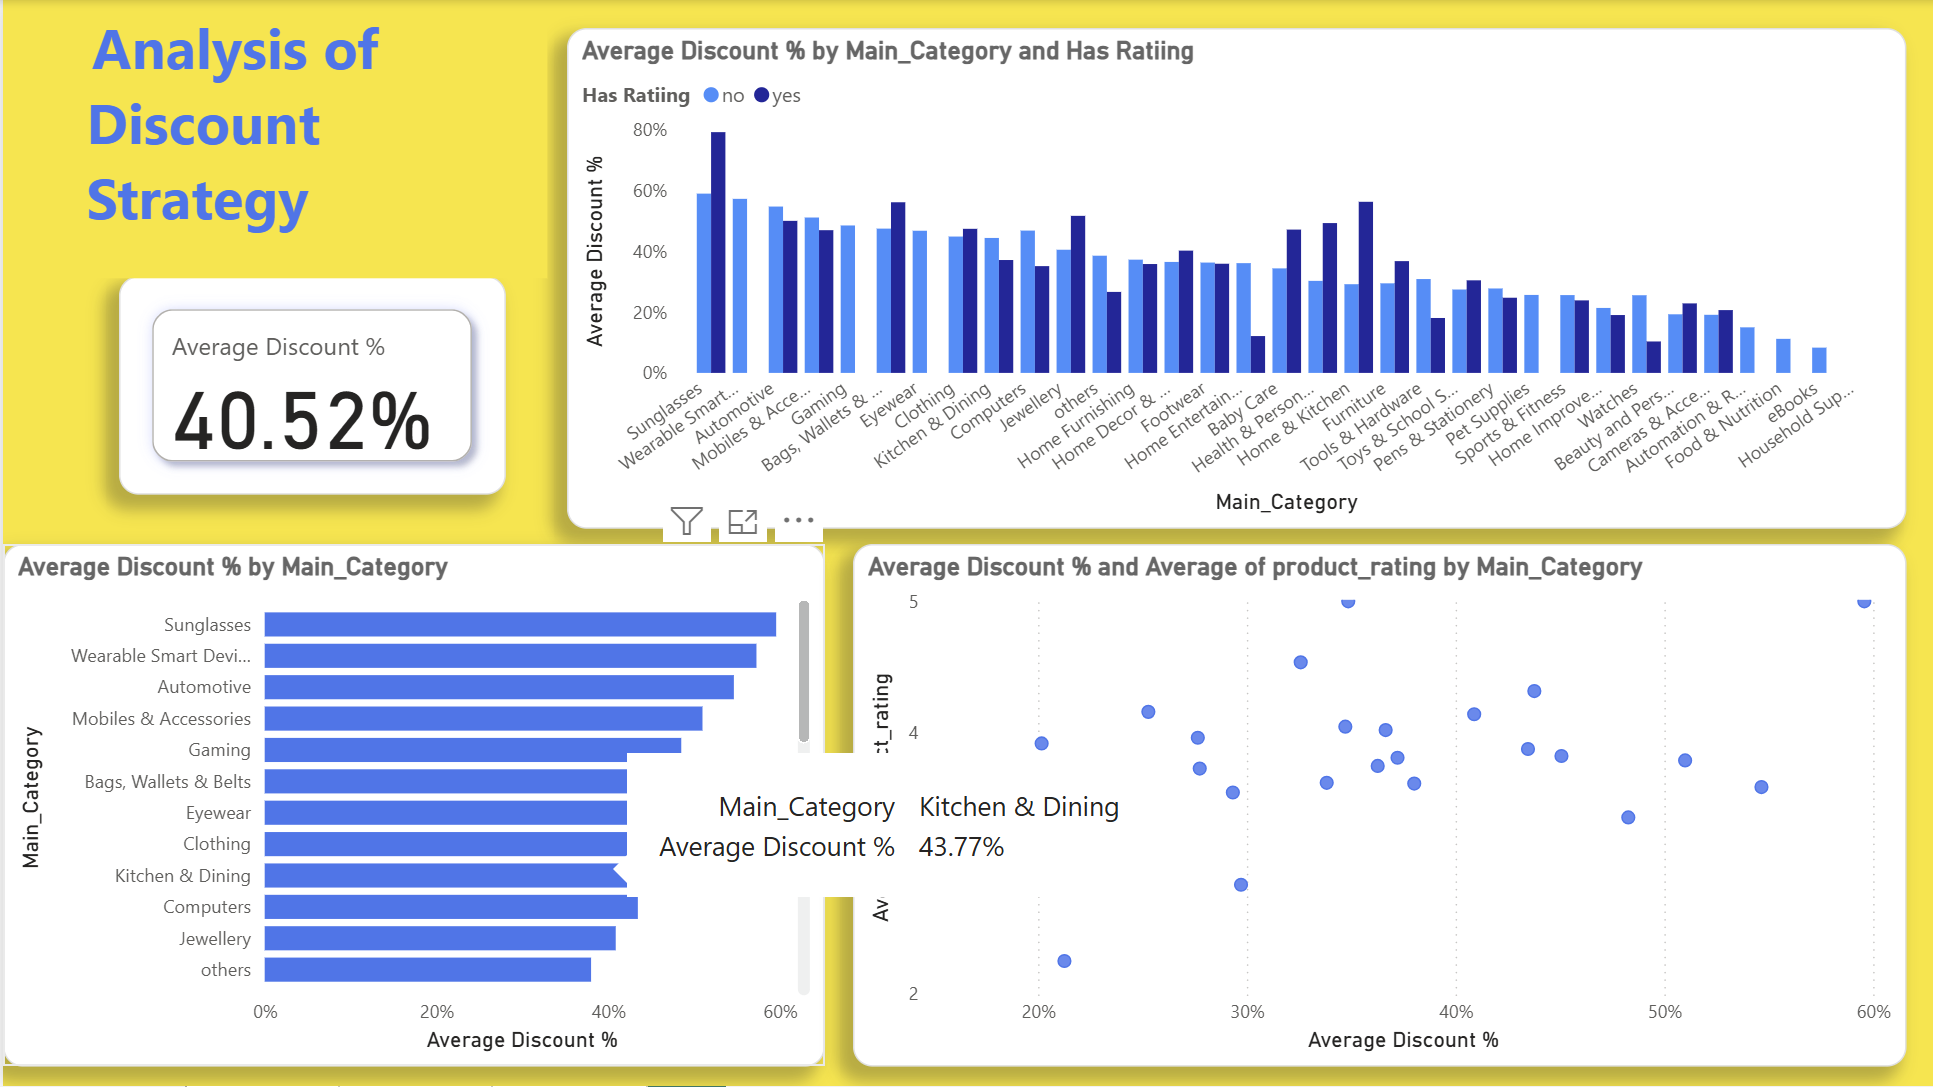

The page's visual inventory and layout, read from the dashboard file:
{"tool":"powerbi","page":{"name":"Page 3","canvas":[1280,720],"ordinal":2},"visuals":[{"type":"cardVisual","fields":{"Data":["flipkart_com-ecommerce_sample.Average Discount %"]},"box":[76.7,183.3,256.7,145],"z":0},{"type":"clusteredColumnChart","fields":{"Series":["flipkart_com-ecommerce_sample.Has Ratiing"],"Category":["flipkart_com-ecommerce_sample.Main_Category"],"Y":["flipkart_com-ecommerce_sample.Average Discount %"]},"box":[374,18,888,332],"z":1000},{"type":"barChart","fields":{"Y":["flipkart_com-ecommerce_sample.Average Discount %"],"Category":["flipkart_com-ecommerce_sample.Main_Category"]},"box":[0,360,545,346.7],"z":2000},{"type":"textbox","box":[50.4,0,310.3,184.3],"z":3000},{"type":"scatterChart","fields":{"X":["flipkart_com-ecommerce_sample.Average Discount %"],"Y":["Avg(flipkart_com-ecommerce_sample.product_rating)"],"Category":["flipkart_com-ecommerce_sample.Main_Category"]},"box":[563.3,360,698.3,346.7],"z":4000}]}

Visuals, with their boxes in screenshot pixels (x1, y1, x2, y2), scaled from the page's 1280x720 canvas onto the 1933x1087 screenshot:
cardVisual - flipkart_com-ecommerce_sample.Average Discount %: <box>116,277,503,496</box>
clusteredColumnChart - flipkart_com-ecommerce_sample.Has Ratiing x flipkart_com-ecommerce_sample.Main_Category: <box>565,27,1906,528</box>
barChart - flipkart_com-ecommerce_sample.Average Discount % x flipkart_com-ecommerce_sample.Main_Category: <box>0,544,823,1067</box>
textbox: <box>76,0,545,278</box>
scatterChart - flipkart_com-ecommerce_sample.Average Discount % x Avg(flipkart_com-ecommerce_sample.product_rating): <box>851,544,1905,1067</box>
